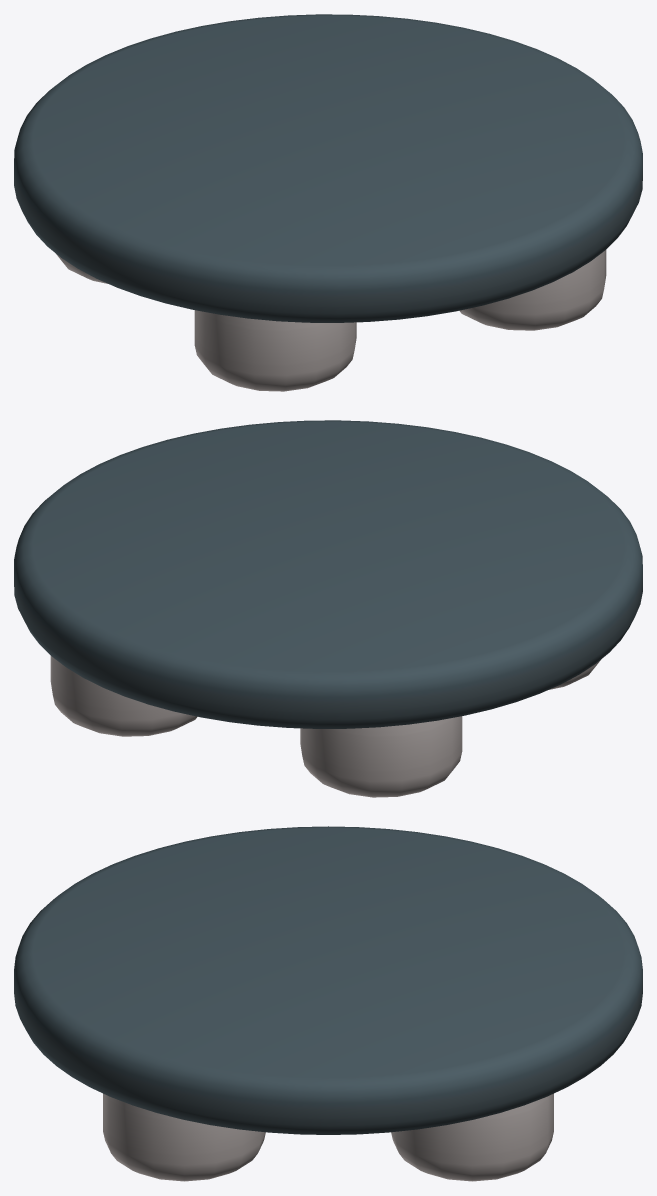
The model's file is Couch_Table_01.glb.
3 views of the same model, one above another, from view 1: azimuth 30°, elevation 25°; view 2: azimuth 150°, elevation 25°; view 3: azimuth 270°, elevation 25° (orthographic).
Parts seen in each view (by area): view 1: Couch_Table_01; view 2: Couch_Table_01; view 3: Couch_Table_01.
Part boxes in pixels (x1=…): Couch_Table_01: x1=14, y1=14, x2=642, y2=391; Couch_Table_01: x1=14, y1=420, x2=642, y2=797; Couch_Table_01: x1=14, y1=826, x2=642, y2=1181.
Size of the model in its own units: 0.8747 by 0.2187 by 0.8747.
Materials: 1 (1 with a texture image).
